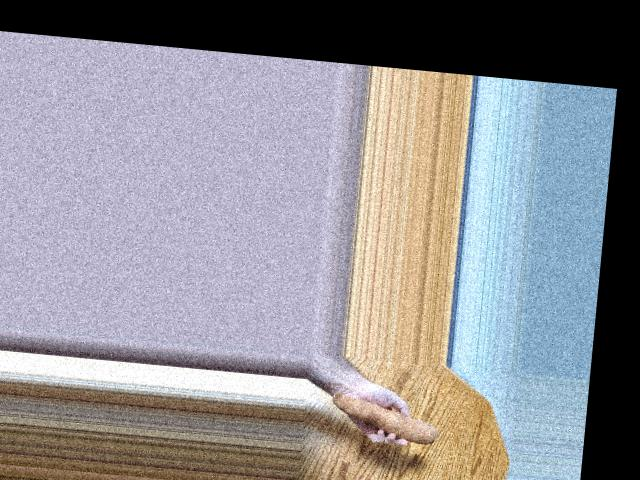sweet_potato: (334, 397, 435, 447)
